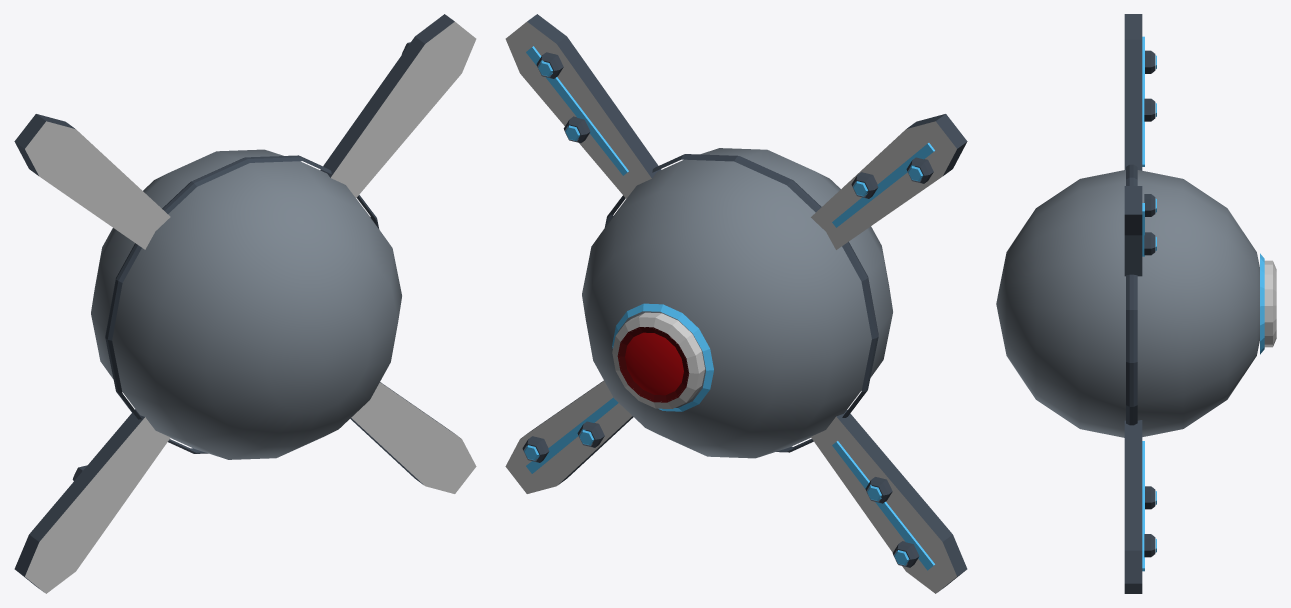
File: rf_drone_lod.obj
3 views of the same model, side by side, from view 1: azimuth 30°, elevation 25°; view 2: azimuth 150°, elevation 25°; view 3: azimuth 270°, elevation 25° (orthographic). The views are drawn at different scales.
Parts seen in each view (by area): view 1: hull; view 2: hull; view 3: hull.
Boxes of the visible parts, x1=… form: hull: x1=14, y1=14, x2=476, y2=593; hull: x1=505, y1=14, x2=967, y2=593; hull: x1=996, y1=14, x2=1276, y2=593.
Size of the model in its own units: 0.6311 by 0.6311 by 0.3934.
